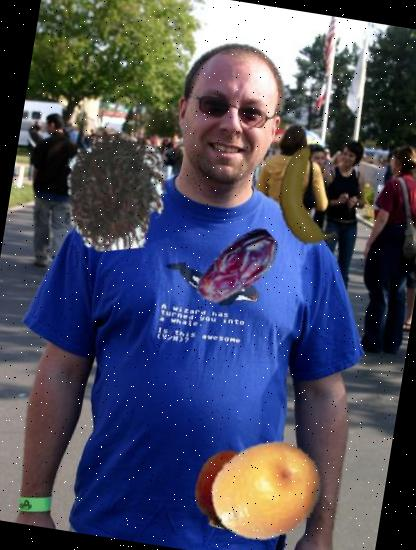Banana: (254, 139, 366, 252)
Dates: (185, 215, 291, 321)
Kumquats: (203, 427, 332, 550)
Peach: (189, 447, 279, 537)
Rambutan: (50, 125, 184, 260)
